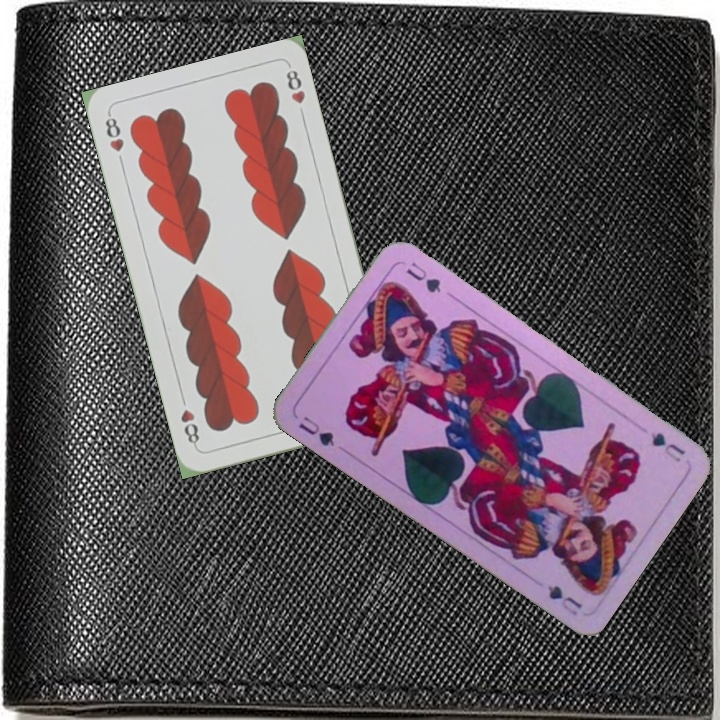GU: (294, 412, 337, 449), (646, 428, 688, 465)
H8: (101, 110, 127, 155)
